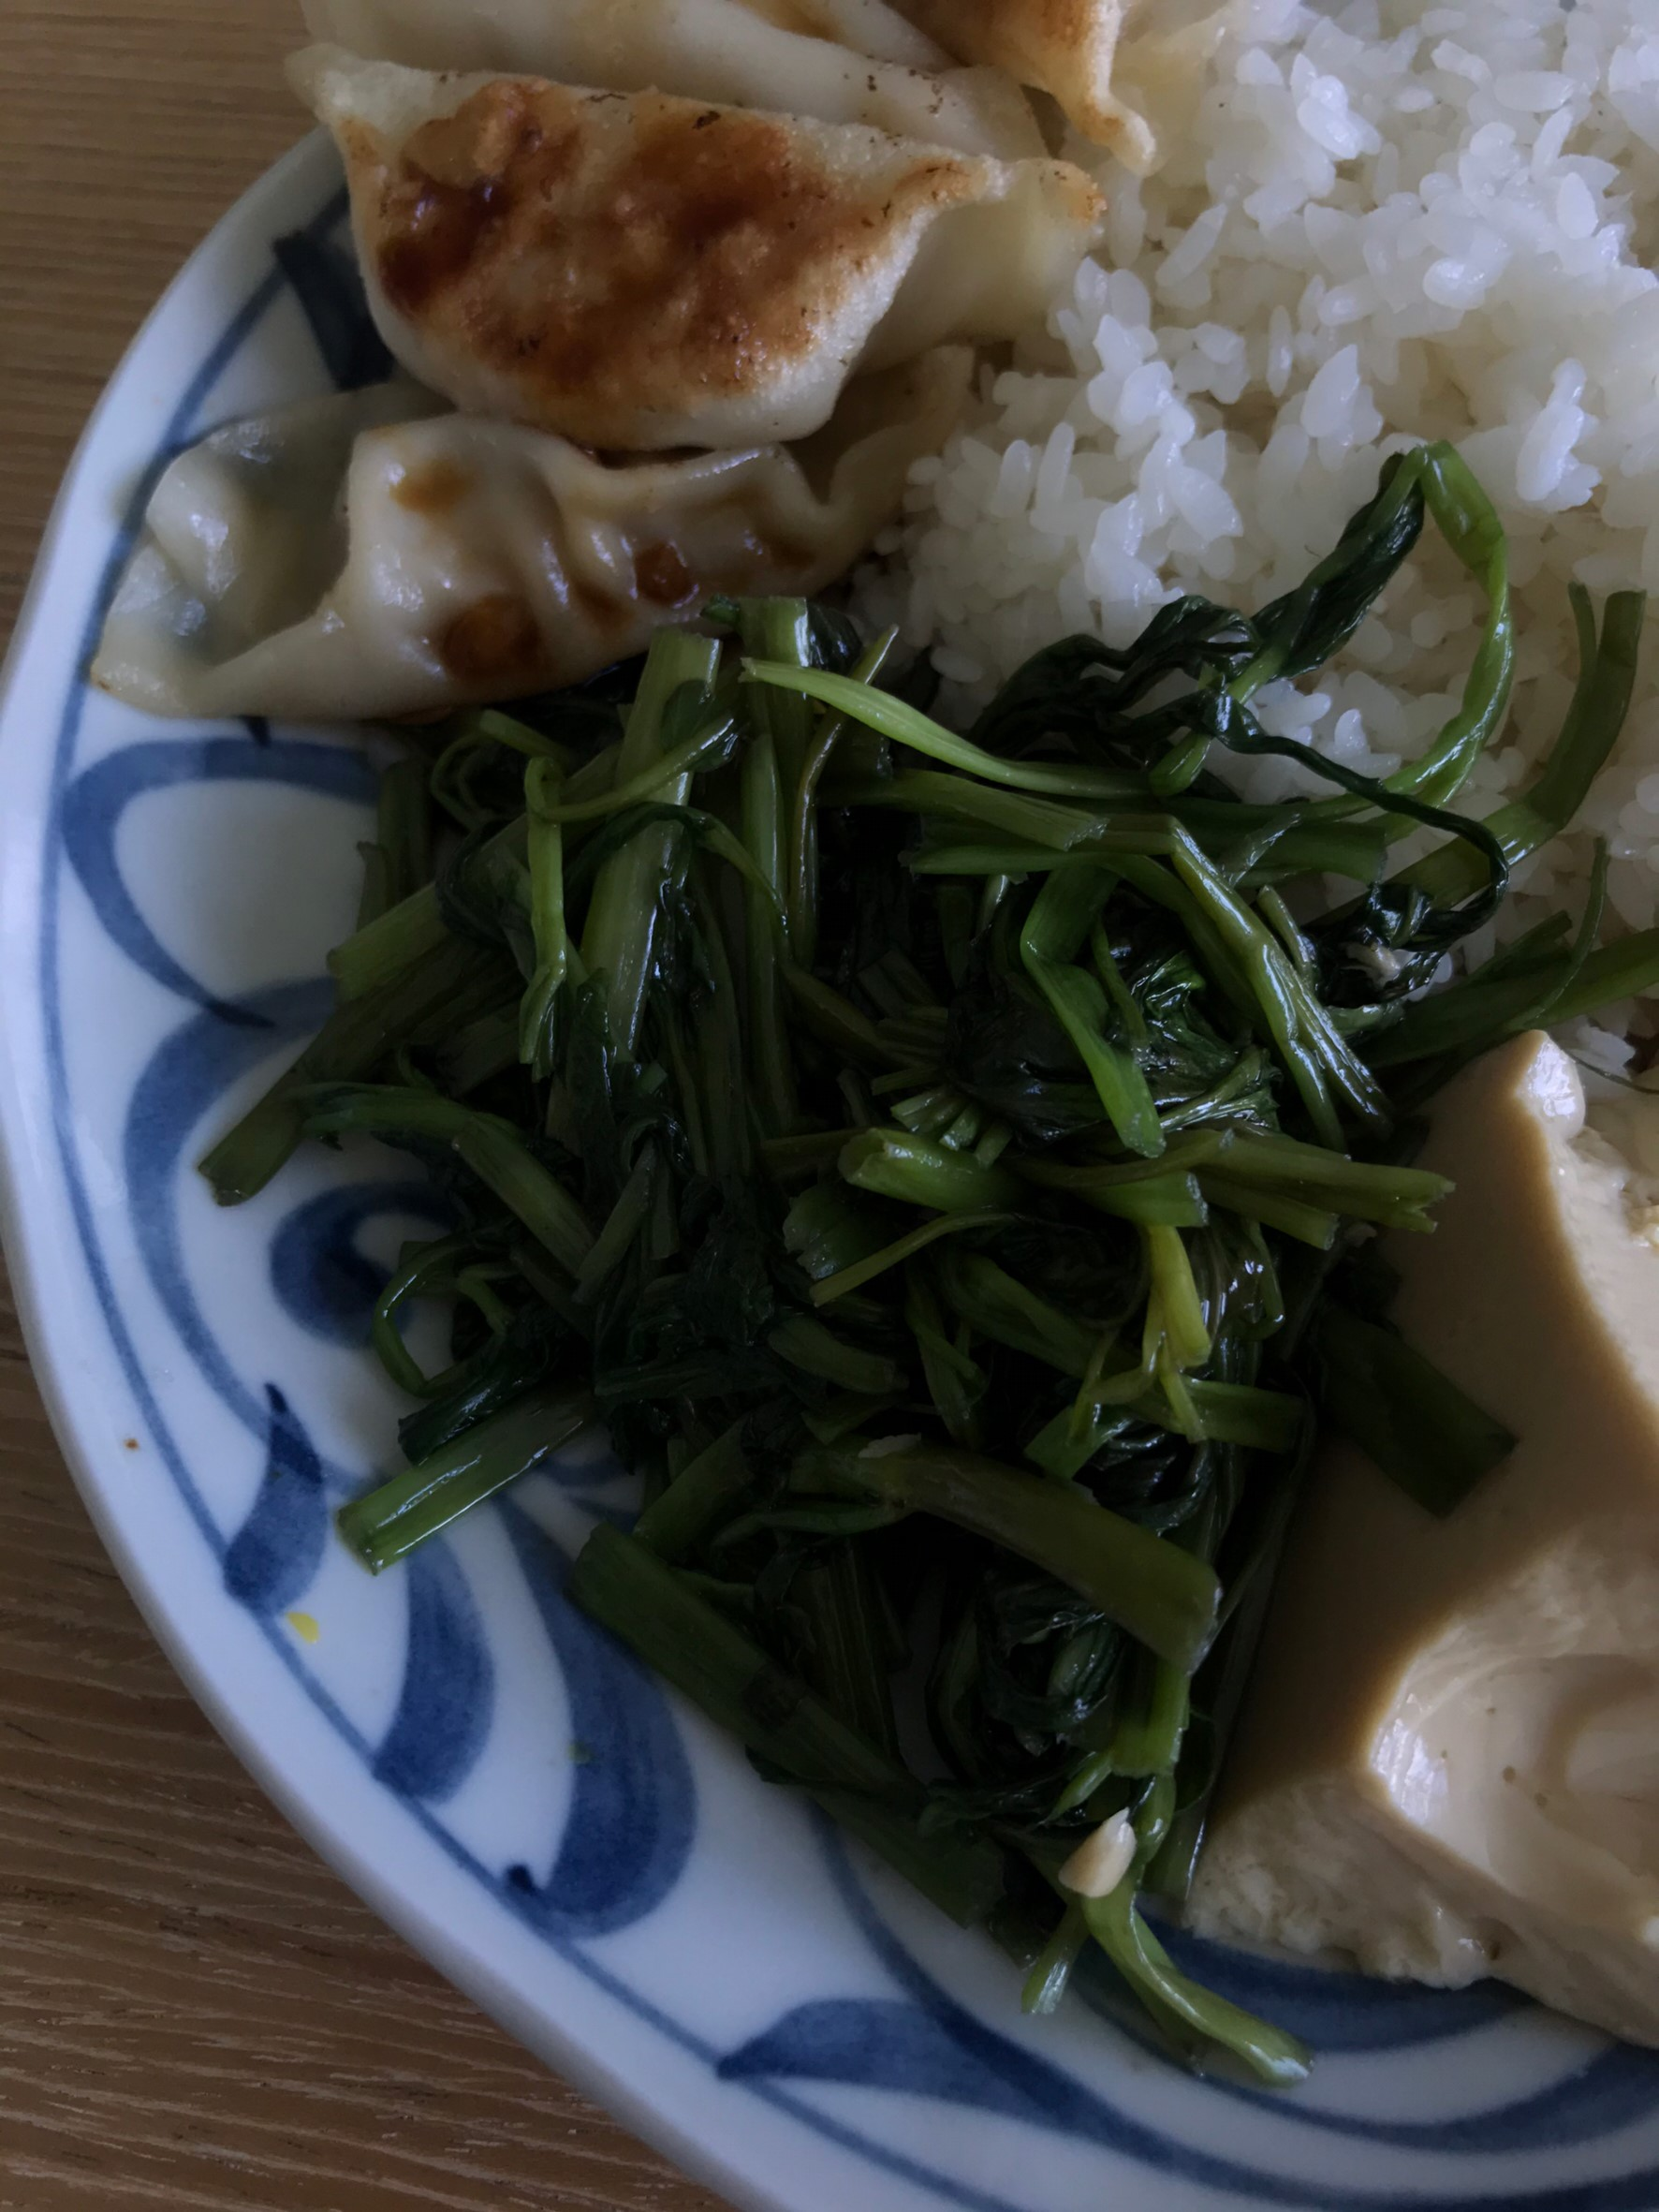fried_dumplings: (164, 2, 955, 702)
rice: (971, 2, 1659, 701)
water_spinach: (566, 701, 1270, 1614)
